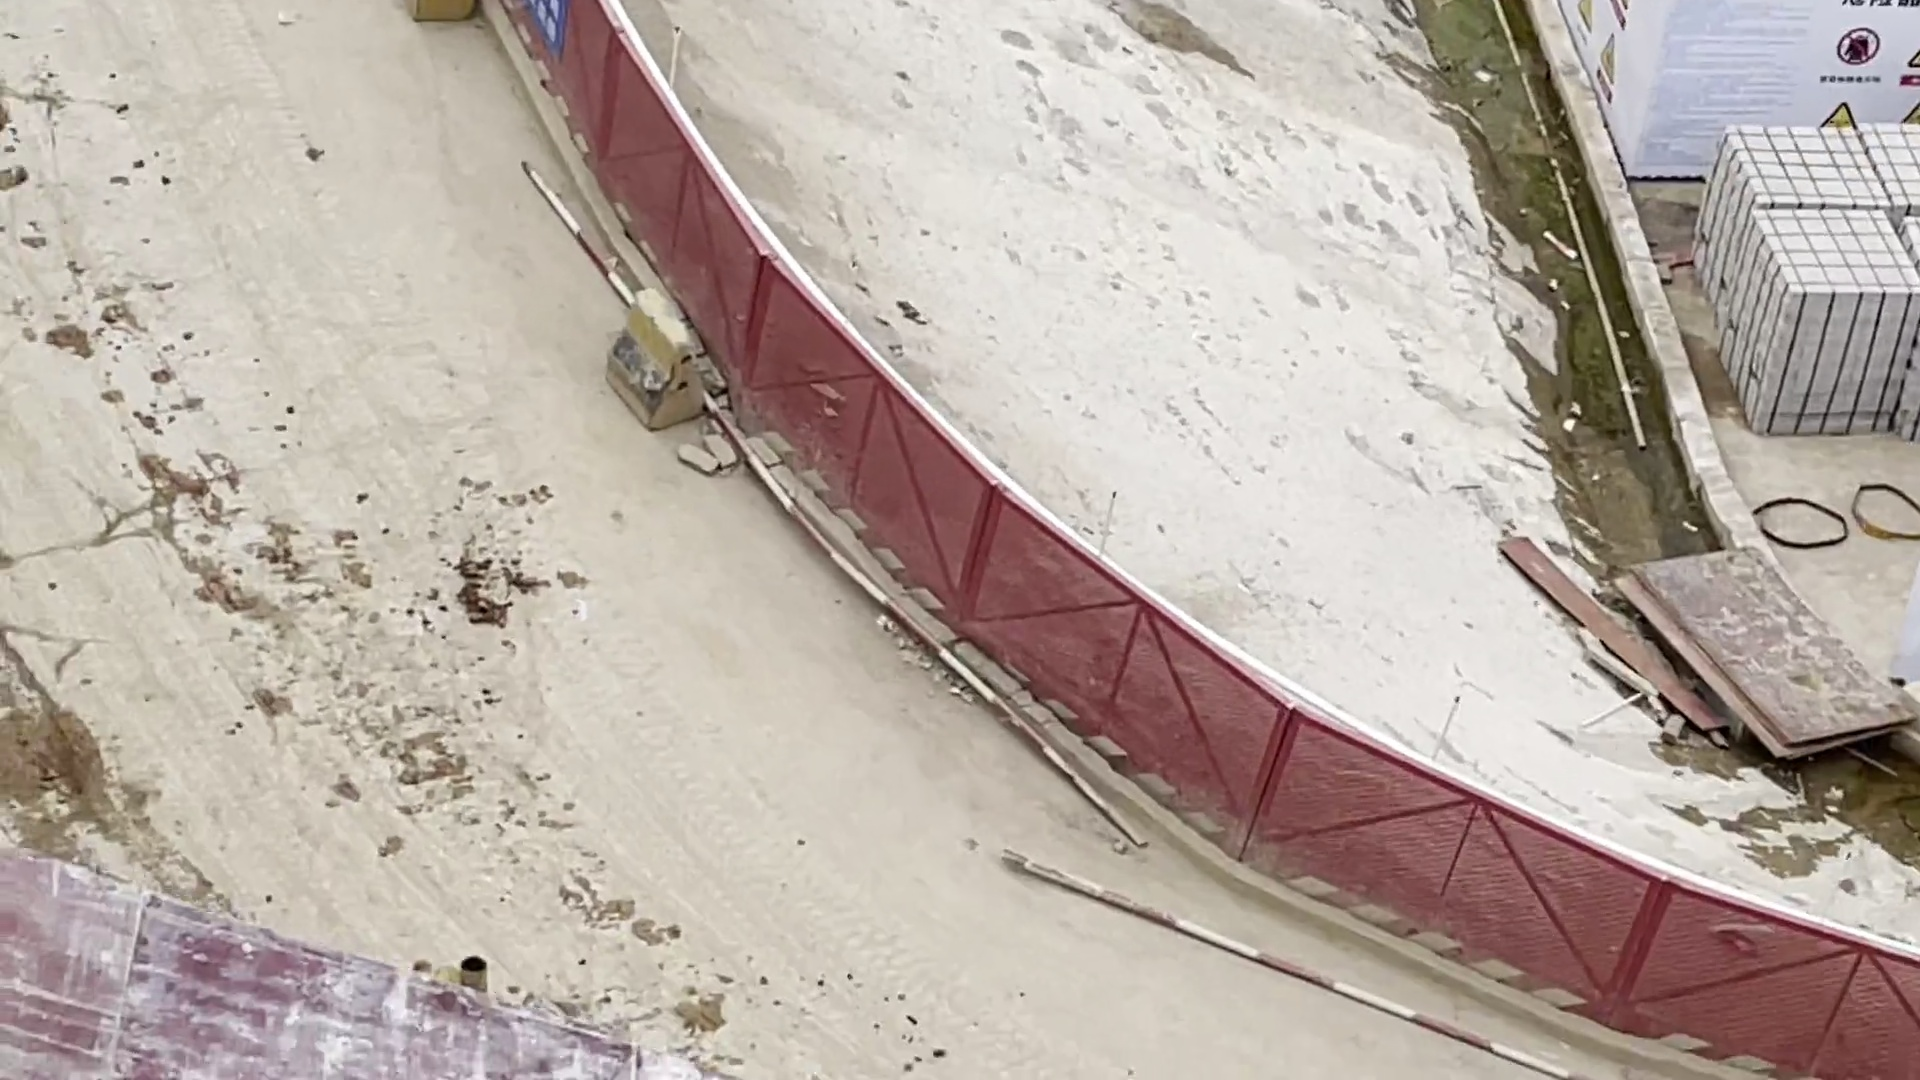board: (1596, 538, 1920, 770)
brick: (1680, 112, 1920, 448)
fence: (740, 251, 1287, 939), (1263, 720, 1920, 1076), (483, 4, 767, 425)
slogan: (1549, 3, 1920, 179), (512, 1, 591, 62)
